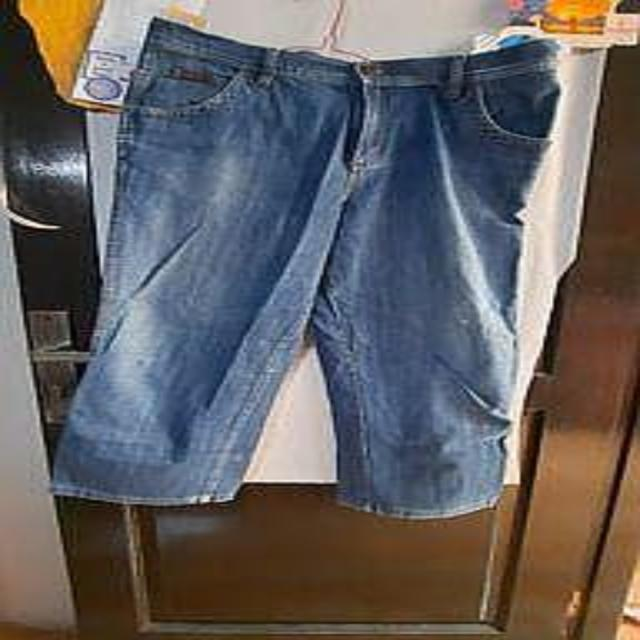SHORT: (37, 10, 592, 526)
